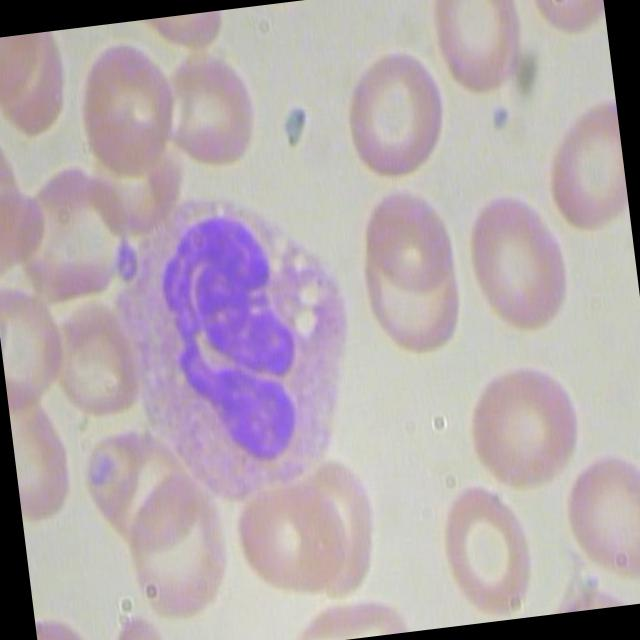RBC: (450, 339, 590, 497), (3, 148, 134, 314), (424, 469, 548, 626), (114, 472, 235, 630), (458, 176, 576, 338), (335, 35, 453, 196), (227, 466, 361, 601), (69, 29, 183, 184), (36, 289, 150, 424), (148, 42, 262, 176), (532, 91, 630, 242), (293, 451, 385, 606), (551, 444, 640, 586), (356, 172, 461, 292), (427, 0, 534, 100)
WBC: (101, 179, 382, 525)
